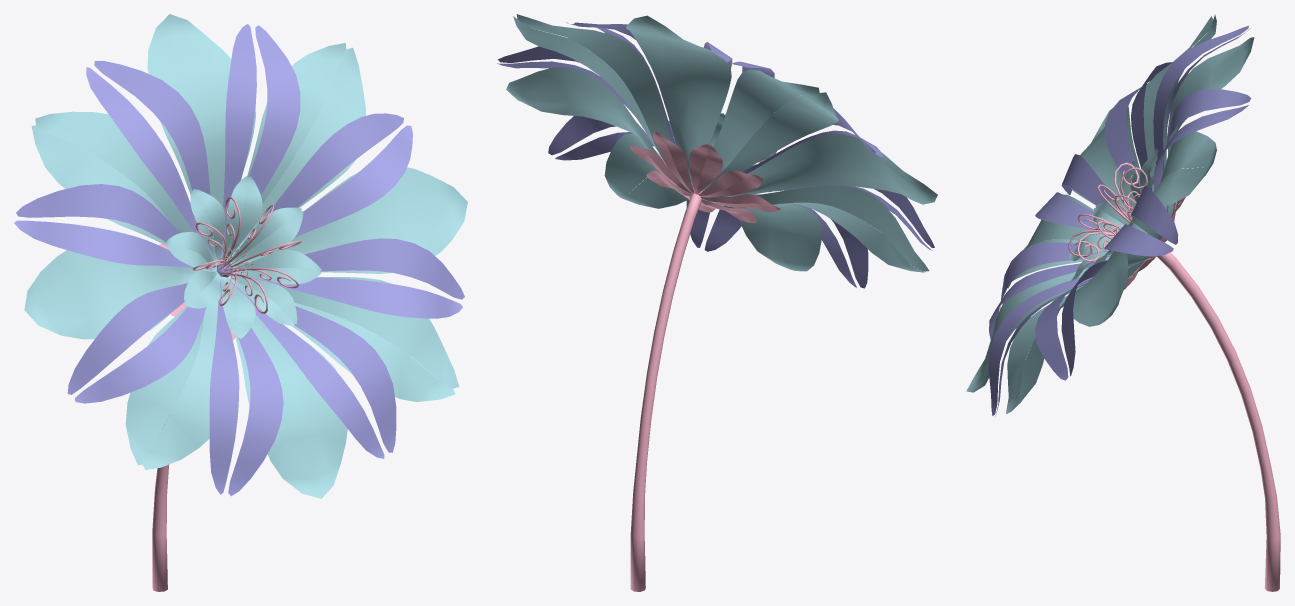
The model's file is tree_large.fbx.
The picture shows the model from 3 angles, left to right: view 1: azimuth 30°, elevation 25°; view 2: azimuth 150°, elevation 25°; view 3: azimuth 270°, elevation 25°; orthographic projection. The views are drawn at different scales.
Parts seen in each view (by area): view 1: Tree_Flower_Large; view 2: Tree_Flower_Large; view 3: Tree_Flower_Large.
Boxes of the visible parts, <box> form: Tree_Flower_Large: <box>14,14,467,591</box>; Tree_Flower_Large: <box>497,14,937,591</box>; Tree_Flower_Large: <box>966,14,1280,591</box>.
Bounding box in the file's own units: 804 × 1008 × 520.
